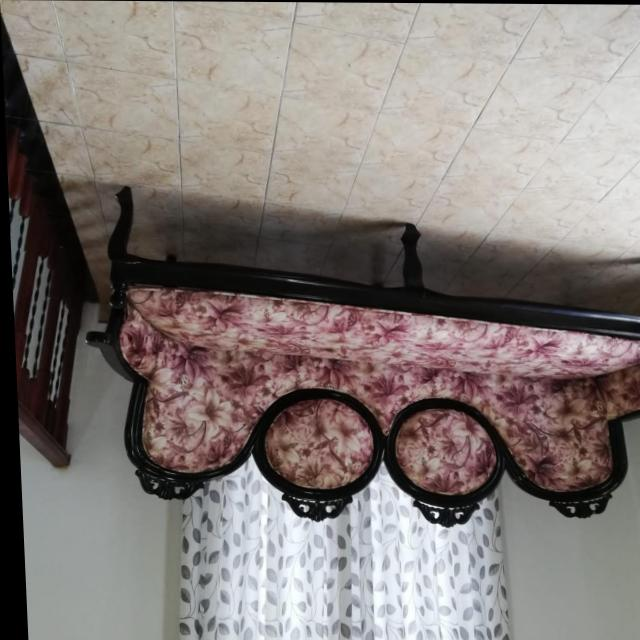Sofa: (75, 182, 640, 529)
